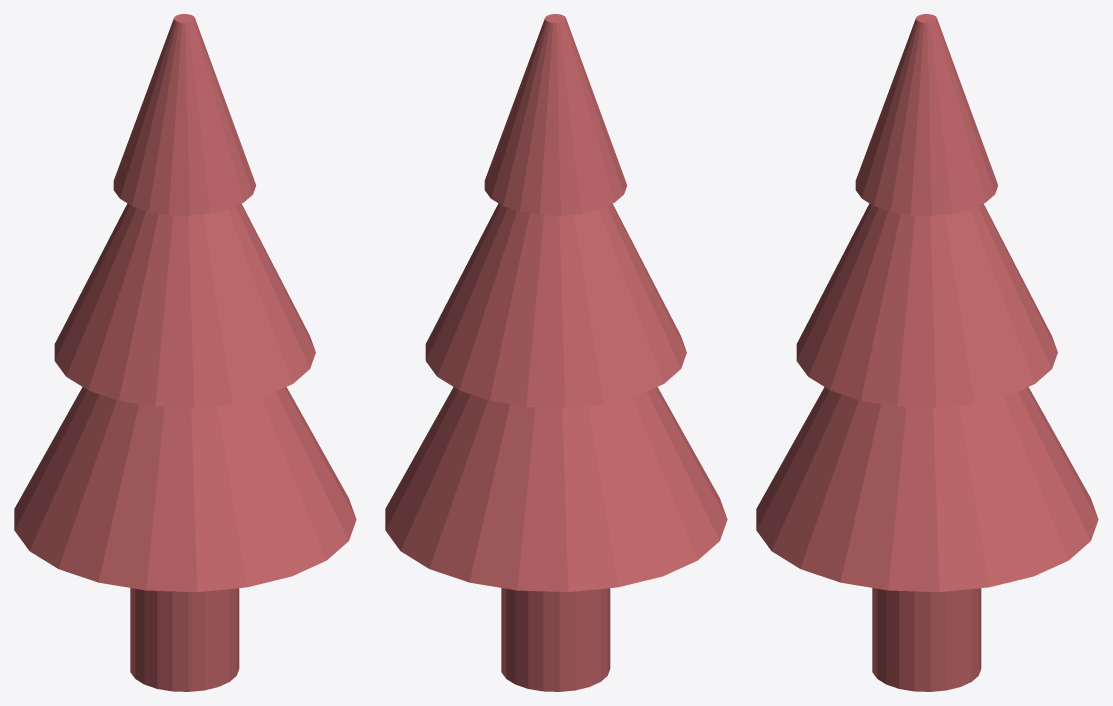
Rendered from PeppermintTree.obj.
3 views of the same model, side by side, from view 1: azimuth 30°, elevation 25°; view 2: azimuth 150°, elevation 25°; view 3: azimuth 270°, elevation 25° (orthographic).
Visible parts, largest first — view 1: Cylinder; view 2: Cylinder; view 3: Cylinder.
Boxes of the visible parts, <box> form: Cylinder: <box>14,14,356,691</box>; Cylinder: <box>385,14,727,691</box>; Cylinder: <box>756,14,1098,691</box>.
Size of the model in its own units: 3.22 by 6.74 by 3.21.
